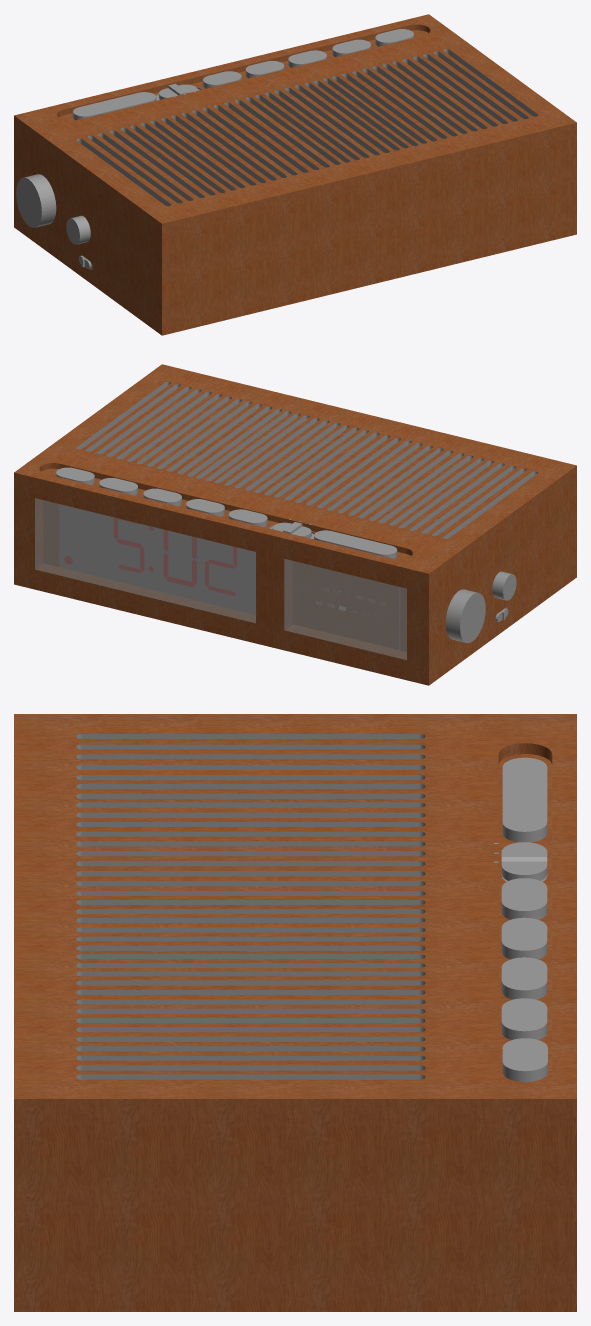
3 views of the same model, one above another, from view 1: azimuth 30°, elevation 25°; view 2: azimuth 150°, elevation 25°; view 3: azimuth 270°, elevation 25° (orthographic). The views are drawn at different scales.
Parts seen in each view (by area): view 1: mesh1_mesh1-geometry, mesh1_mesh1-geometry_1; view 2: mesh1_mesh1-geometry, mesh1_mesh1-geometry_1, mesh1_mesh1-geometry_3, mesh1_mesh1-geometry_6; view 3: mesh1_mesh1-geometry, mesh1_mesh1-geometry_1.
Part boxes in pixels (x1,y1,x2,y2): mesh1_mesh1-geometry: (14, 14, 576, 335); mesh1_mesh1-geometry_1: (16, 29, 538, 269); mesh1_mesh1-geometry: (14, 364, 576, 685); mesh1_mesh1-geometry_1: (56, 381, 537, 642); mesh1_mesh1-geometry_3: (35, 498, 406, 660); mesh1_mesh1-geometry_6: (65, 518, 236, 595); mesh1_mesh1-geometry: (14, 714, 576, 1311); mesh1_mesh1-geometry_1: (76, 734, 547, 1081).
Bounding box in the file's own units: 0.8396 × 0.2091 × 0.5014.
9 materials, 1 textured.
